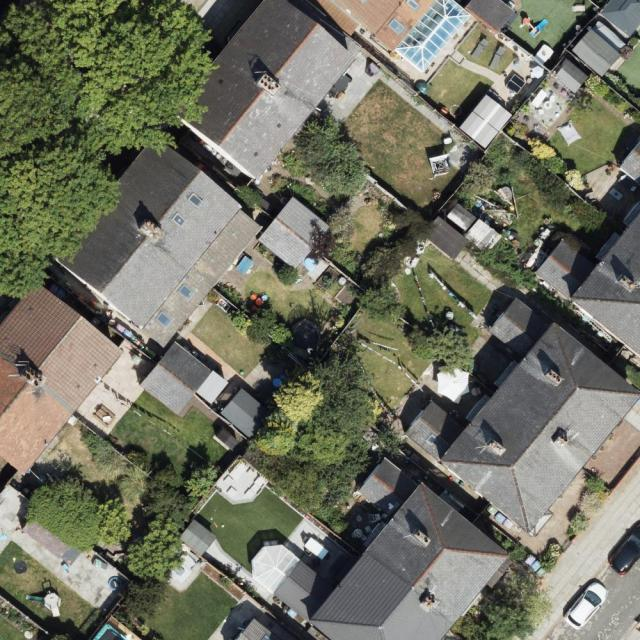roof: (402, 296, 640, 536), (250, 456, 511, 640), (49, 136, 264, 350), (174, 0, 364, 180), (0, 282, 129, 475), (534, 204, 640, 360), (312, 0, 517, 71), (261, 196, 334, 270), (141, 340, 212, 414), (616, 140, 640, 184)
skylight: (396, 0, 474, 74), (253, 546, 300, 598), (175, 281, 195, 302), (151, 309, 170, 330), (384, 16, 406, 34), (187, 192, 203, 211), (172, 211, 186, 231), (405, 0, 420, 7)
